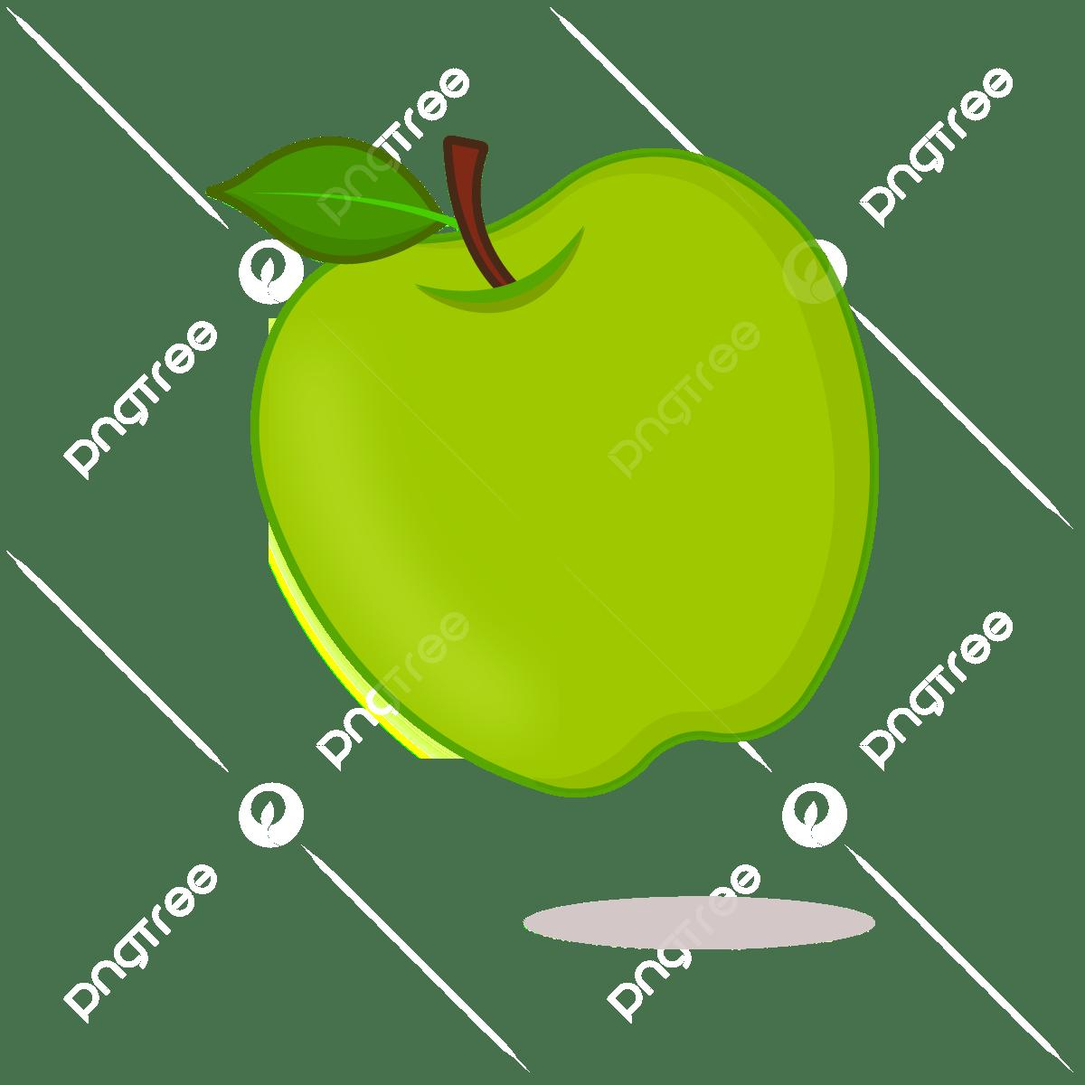apples: (141, 45, 905, 830)
